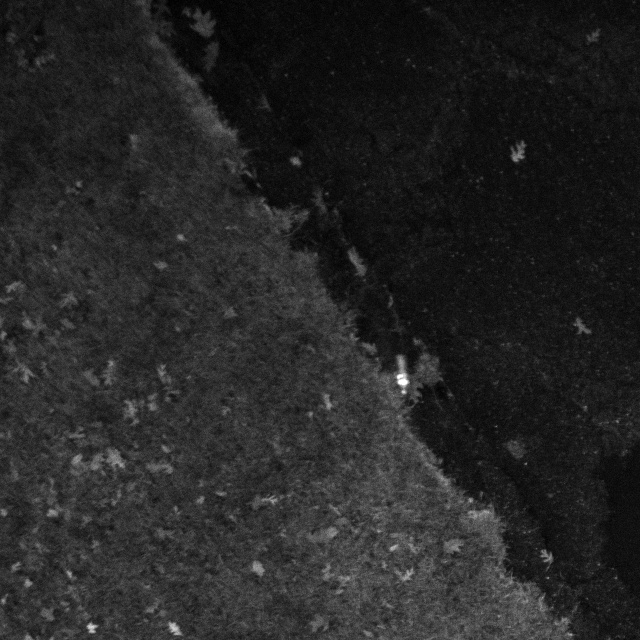bottle: (388, 348, 423, 395)
